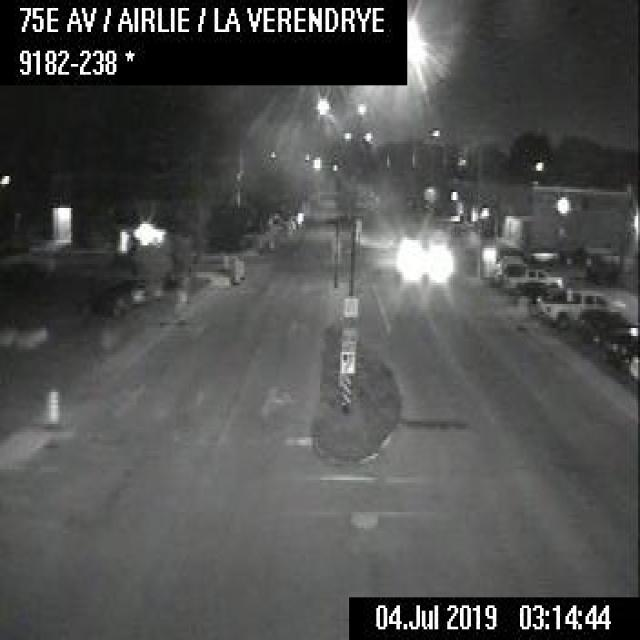construction: (44, 384, 60, 427), (230, 254, 237, 284), (236, 257, 243, 279)
vehicle: (536, 286, 627, 329), (578, 306, 632, 342), (501, 261, 563, 291), (603, 323, 637, 361)
